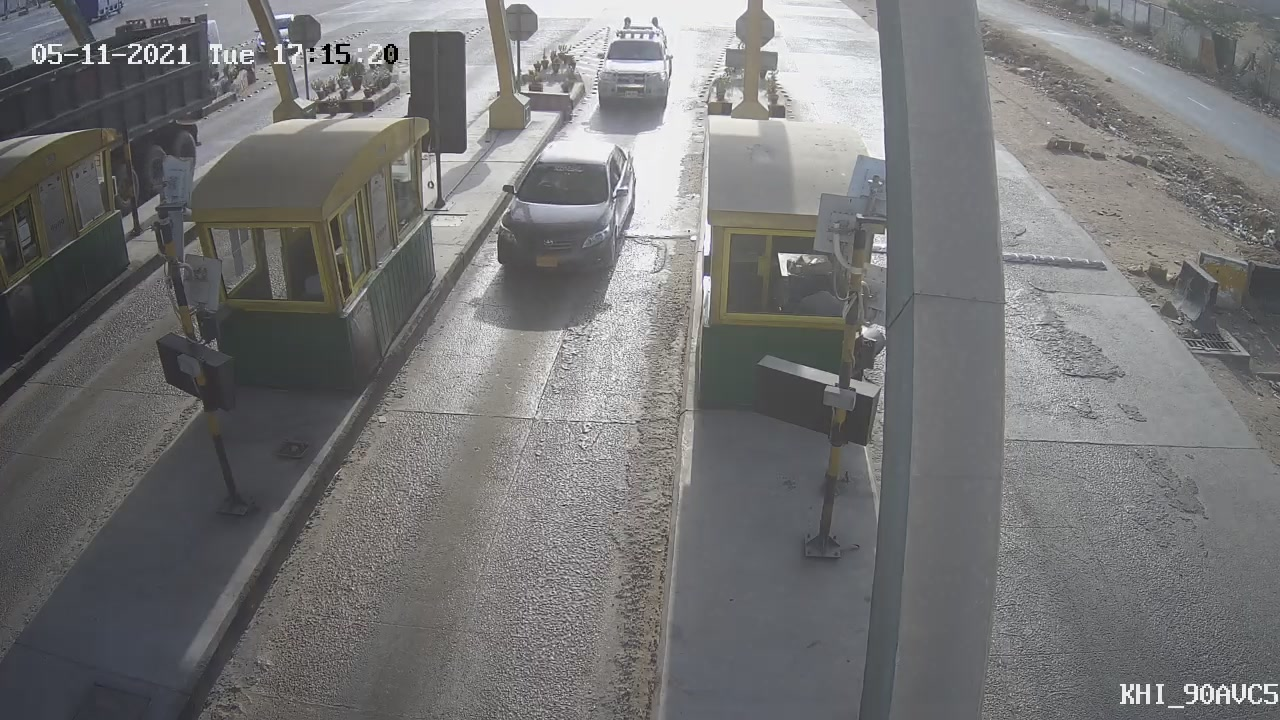F1: (468, 124, 648, 300)
